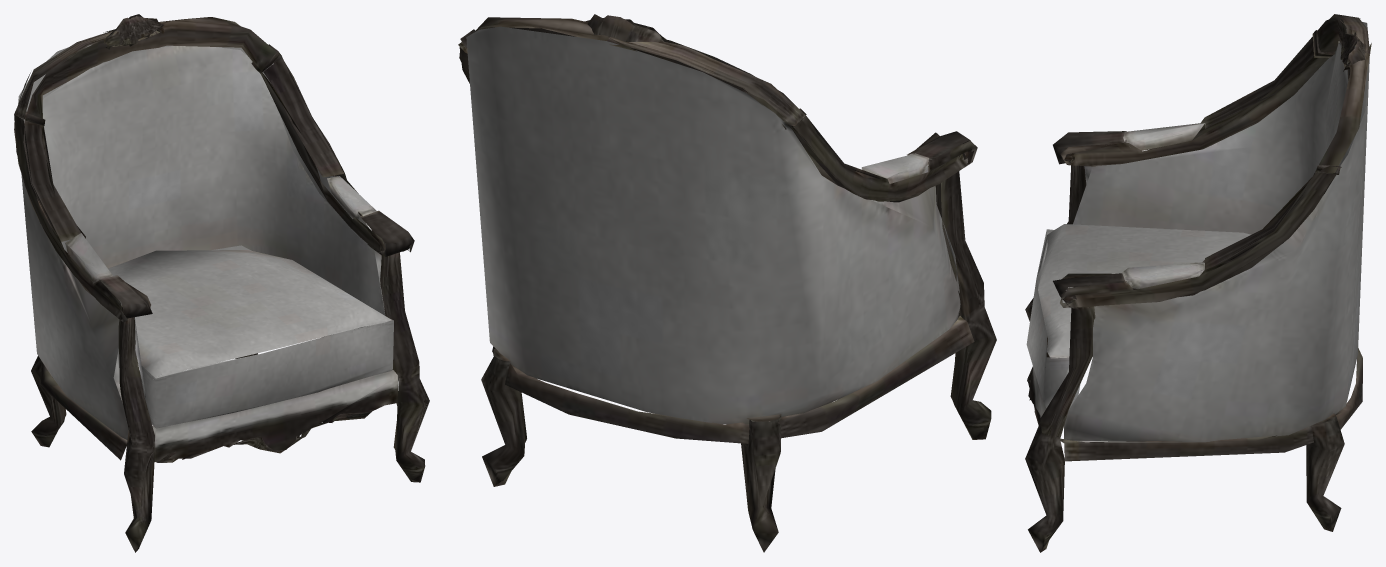
The model's file is ph_ArmChair_01.glb.
3 views of the same model, side by side, from view 1: azimuth 30°, elevation 25°; view 2: azimuth 150°, elevation 25°; view 3: azimuth 270°, elevation 25° (orthographic). The views are drawn at different scales.
Visible parts, largest first — view 1: ArmChair_01; view 2: ArmChair_01; view 3: ArmChair_01.
Part boxes in pixels (<box>): ArmChair_01: <box>14,14,429,552</box>; ArmChair_01: <box>458,14,996,552</box>; ArmChair_01: <box>1025,14,1371,552</box>.
Bounding box in the file's own units: 0.856 × 1.06 × 0.7623.
Materials: 1 (1 with a texture image).
